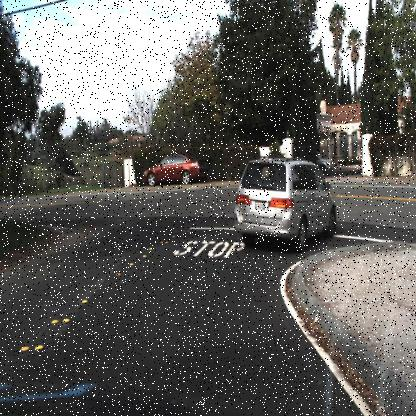car: (231, 152, 337, 253), (140, 150, 204, 188)
